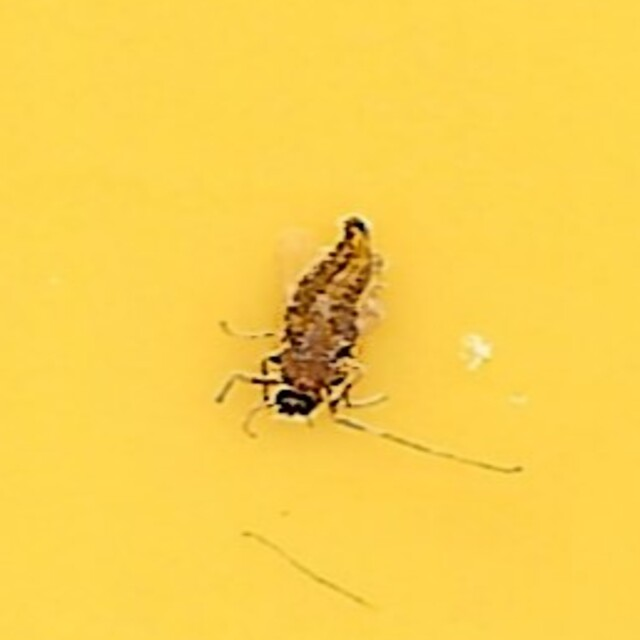Nematocera: (249, 208, 391, 432)
